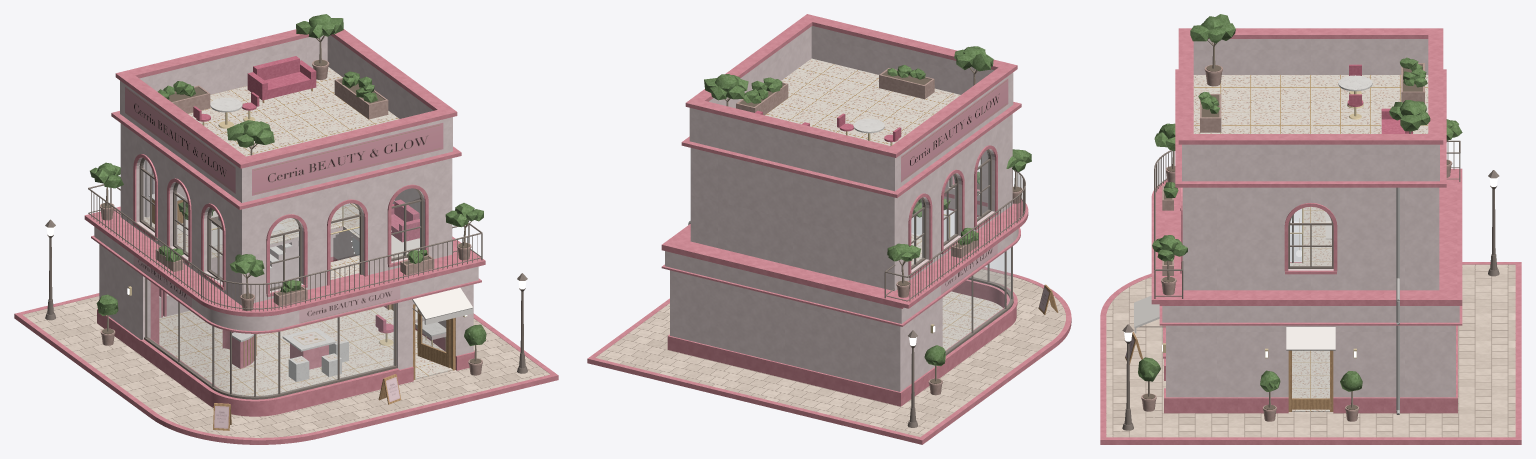
Rendered from glow_studio_salon.glb.
The picture shows the model from 3 angles, left to right: view 1: azimuth 30°, elevation 25°; view 2: azimuth 150°, elevation 25°; view 3: azimuth 270°, elevation 25°; orthographic projection. The views are drawn at different scales.
Visible parts, largest first — view 1: F2_Walls_Stucco_Warm_Ivory, Sidewalk_Pavers_Sidewalk_Cream_Paver, Curved_Glass_Glass_Boutique_Clear, Floor1_Terrazzo_Floor_Terrazzo_Brass, Parapet_Walls_Stucco_Warm_Ivory, Parapet_Cap_Trim_Blush_Rose_Stone, Curved_Balcony_Trim_Blush_Rose_Stone, Roof_Floor_Floor_Terrazzo_Brass, Foliage_3D_Foliage_Olive_3D, GF_Walls_Stucco_Warm_Ivory, Sidewalk_Curb_Trim_Blush_Rose_Stone, Sign_Front_Top (+30 smaller); view 2: F2_Walls_Stucco_Warm_Ivory, GF_Walls_Stucco_Warm_Ivory, Sidewalk_Pavers_Sidewalk_Cream_Paver, Parapet_Walls_Stucco_Warm_Ivory, Roof_Floor_Floor_Terrazzo_Brass, Parapet_Cap_Trim_Blush_Rose_Stone, Curved_Balcony_Trim_Blush_Rose_Stone, Sidewalk_Curb_Trim_Blush_Rose_Stone, Curved_Fascia_Stucco_Warm_Ivory, Foliage_3D_Foliage_Olive_3D, GF_Plinth_Trim_Blush_Rose_Stone, Curved_Glass_Glass_Boutique_Clear (+14 smaller); view 3: Sidewalk_Pavers_Sidewalk_Cream_Paver, F2_Walls_Stucco_Warm_Ivory, Parapet_Walls_Stucco_Warm_Ivory, GF_Walls_Stucco_Warm_Ivory, Roof_Floor_Floor_Terrazzo_Brass, Curved_Balcony_Trim_Blush_Rose_Stone, Parapet_Cap_Trim_Blush_Rose_Stone, Sidewalk_Curb_Trim_Blush_Rose_Stone, Foliage_3D_Foliage_Olive_3D, Curved_Fascia_Stucco_Warm_Ivory, GF_Plinth_Trim_Blush_Rose_Stone, Roof_Cornice_Trim_Blush_Rose_Stone (+19 smaller).
Part boxes in pixels (x1=…): F2_Walls_Stucco_Warm_Ivory: x1=120, y1=123, x2=452, y2=305; Sidewalk_Pavers_Sidewalk_Cream_Paver: x1=22, y1=296, x2=550, y2=437; Curved_Glass_Glass_Boutique_Clear: x1=147, y1=280, x2=394, y2=396; Floor1_Terrazzo_Floor_Terrazzo_Brass: x1=159, y1=306, x2=452, y2=395; Parapet_Walls_Stucco_Warm_Ivory: x1=120, y1=35, x2=452, y2=202; Parapet_Cap_Trim_Blush_Rose_Stone: x1=115, y1=29, x2=457, y2=168; Curved_Balcony_Trim_Blush_Rose_Stone: x1=84, y1=206, x2=485, y2=316; Roof_Floor_Floor_Terrazzo_Brass: x1=188, y1=67, x2=399, y2=156; Foliage_3D_Foliage_Olive_3D: x1=90, y1=14, x2=486, y2=345; GF_Walls_Stucco_Warm_Ivory: x1=99, y1=230, x2=473, y2=369; Sidewalk_Curb_Trim_Blush_Rose_Stone: x1=14, y1=293, x2=558, y2=444; Sign_Front_Top: x1=252, y1=123, x2=443, y2=195; F2_Walls_Stucco_Warm_Ivory: x1=690, y1=114, x2=1012, y2=291; GF_Walls_Stucco_Warm_Ivory: x1=670, y1=270, x2=942, y2=391; Sidewalk_Pavers_Sidewalk_Cream_Paver: x1=595, y1=269, x2=1065, y2=437; Parapet_Walls_Stucco_Warm_Ivory: x1=689, y1=26, x2=1013, y2=191; Roof_Floor_Floor_Terrazzo_Brass: x1=765, y1=58, x2=960, y2=145; Parapet_Cap_Trim_Blush_Rose_Stone: x1=685, y1=14, x2=1017, y2=157; Curved_Balcony_Trim_Blush_Rose_Stone: x1=661, y1=177, x2=1028, y2=308; Sidewalk_Curb_Trim_Blush_Rose_Stone: x1=587, y1=267, x2=1071, y2=444; Curved_Fascia_Stucco_Warm_Ivory: x1=665, y1=196, x2=1018, y2=323; Foliage_3D_Foliage_Olive_3D: x1=704, y1=46, x2=1031, y2=366; GF_Plinth_Trim_Blush_Rose_Stone: x1=667, y1=334, x2=943, y2=406; Curved_Glass_Glass_Boutique_Clear: x1=912, y1=210, x2=1011, y2=351; Sidewalk_Pavers_Sidewalk_Cream_Paver: x1=1106, y1=264, x2=1515, y2=437; F2_Walls_Stucco_Warm_Ivory: x1=1182, y1=187, x2=1439, y2=290; Parapet_Walls_Stucco_Warm_Ivory: x1=1182, y1=39, x2=1439, y2=181; GF_Walls_Stucco_Warm_Ivory: x1=1166, y1=325, x2=1455, y2=397; Roof_Floor_Floor_Terrazzo_Brass: x1=1193, y1=75, x2=1428, y2=133; Curved_Balcony_Trim_Blush_Rose_Stone: x1=1151, y1=168, x2=1462, y2=304; Parapet_Cap_Trim_Blush_Rose_Stone: x1=1178, y1=28, x2=1443, y2=144; Sidewalk_Curb_Trim_Blush_Rose_Stone: x1=1100, y1=262, x2=1521, y2=444; Foliage_3D_Foliage_Olive_3D: x1=1138, y1=14, x2=1462, y2=391; Curved_Fascia_Stucco_Warm_Ivory: x1=1162, y1=306, x2=1459, y2=322; GF_Plinth_Trim_Blush_Rose_Stone: x1=1164, y1=325, x2=1457, y2=413; Roof_Cornice_Trim_Blush_Rose_Stone: x1=1175, y1=69, x2=1446, y2=187.
Size of the model in its own units: 12.8 by 9.94 by 12.8.
Materials: 27 (15 with a texture image).
